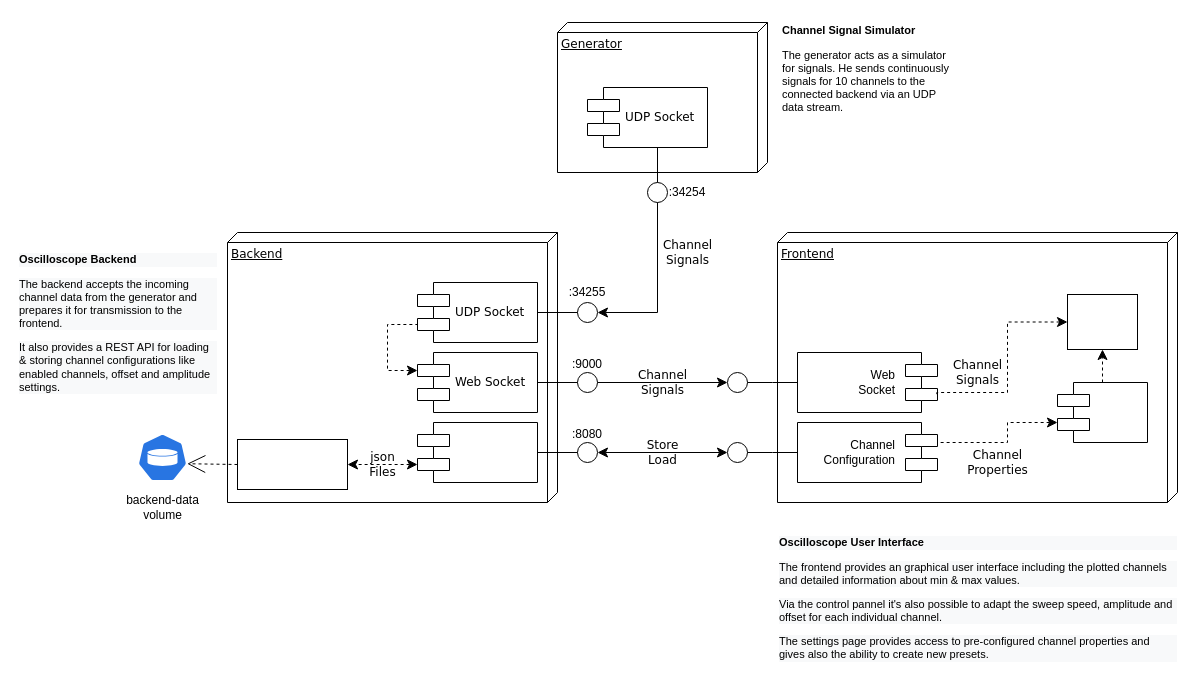
This 1195x690 diagram has some shape labels left out. Each missing label, with the centre of its shape:
"/opt/sosci/data" belongs at [292,464].
"REST API" belongs at [477,452].
"Store" belongs at [1102,412].
"WebGL Canvas" belongs at [1102,322].
